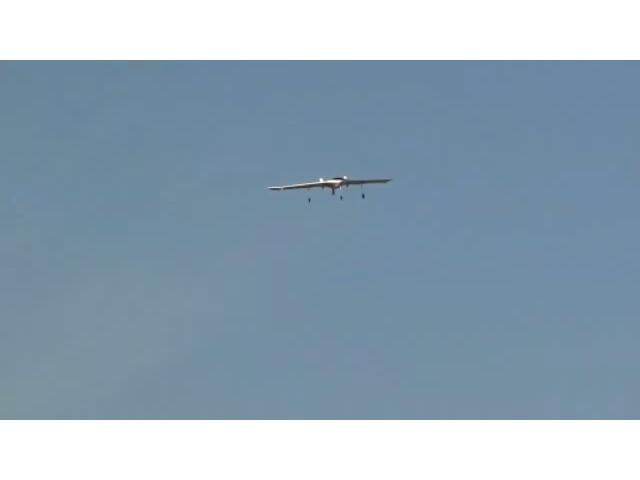Anti-Drone: (267, 178, 389, 192)
